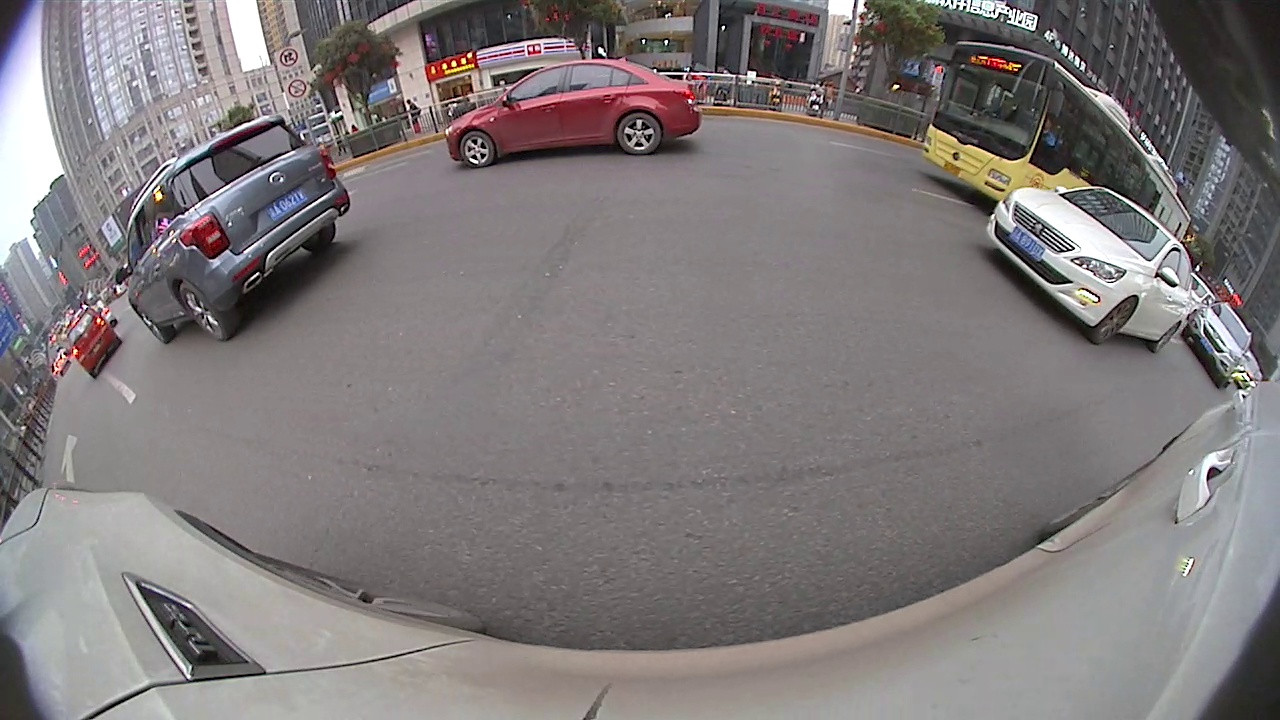car: (658, 33, 972, 238), (246, 66, 426, 227), (1142, 346, 1258, 494), (408, 67, 479, 113)
front: (879, 163, 918, 225), (356, 149, 384, 196), (1217, 470, 1239, 494), (453, 92, 462, 109)
person: (96, 207, 134, 283)
rear: (677, 93, 706, 145), (409, 115, 425, 150)
